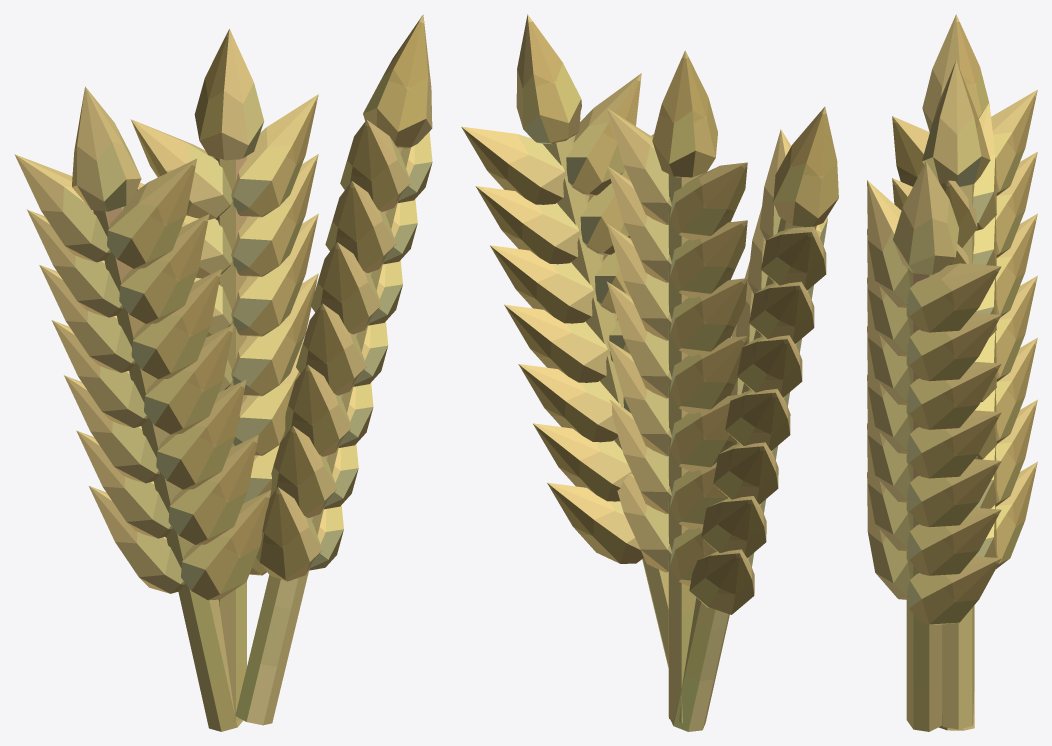
File: wheat-optimized.glb
3 renders of one model, left to right at view 1: azimuth 30°, elevation 25°; view 2: azimuth 150°, elevation 25°; view 3: azimuth 270°, elevation 25°, orthographic. The views are drawn at different scales.
Parts seen in each view (by area): view 1: sphere (×40), cylinder (×3); view 2: sphere (×37), cylinder (×3); view 3: sphere (×34), cylinder (×2).
Part boxes in pixels (<box>): sphere (×40): <box>14,14,432,600</box>; cylinder (×3): <box>93,147,410,731</box>; sphere (×37): <box>461,14,838,614</box>; cylinder (×3): <box>543,135,816,731</box>; sphere (×34): <box>867,14,1037,624</box>; cylinder (×2): <box>906,184,974,731</box>.
Size of the model in its own units: 0.4171 by 0.7296 by 0.1681.
Materials: 1 (1 with a texture image).
